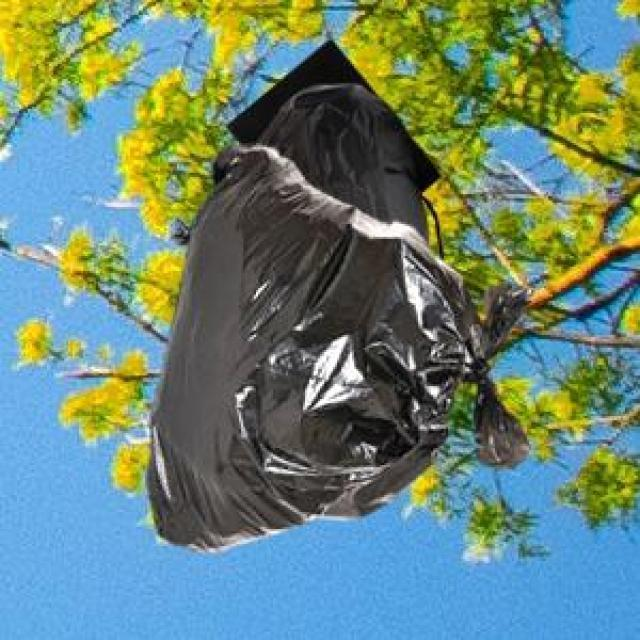miscellaneous trash: (143, 141, 529, 548), (169, 79, 425, 241)
paper: (222, 36, 437, 235)
